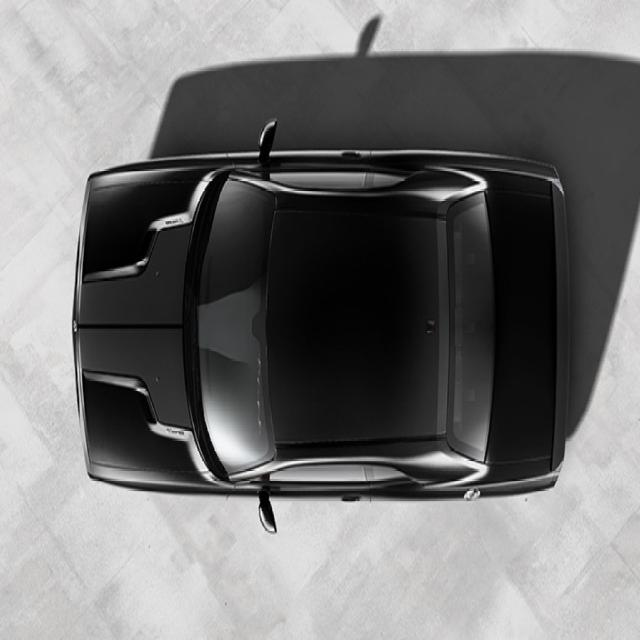car: (76, 41, 582, 535)
